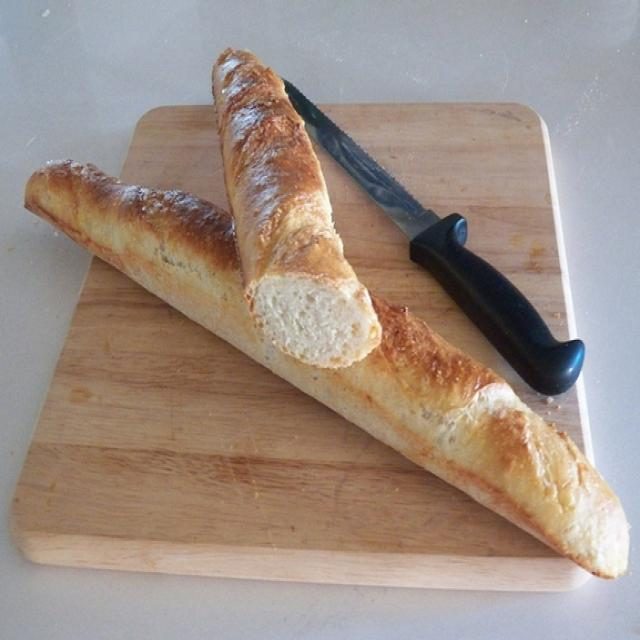面包点心: (18, 27, 631, 591)
